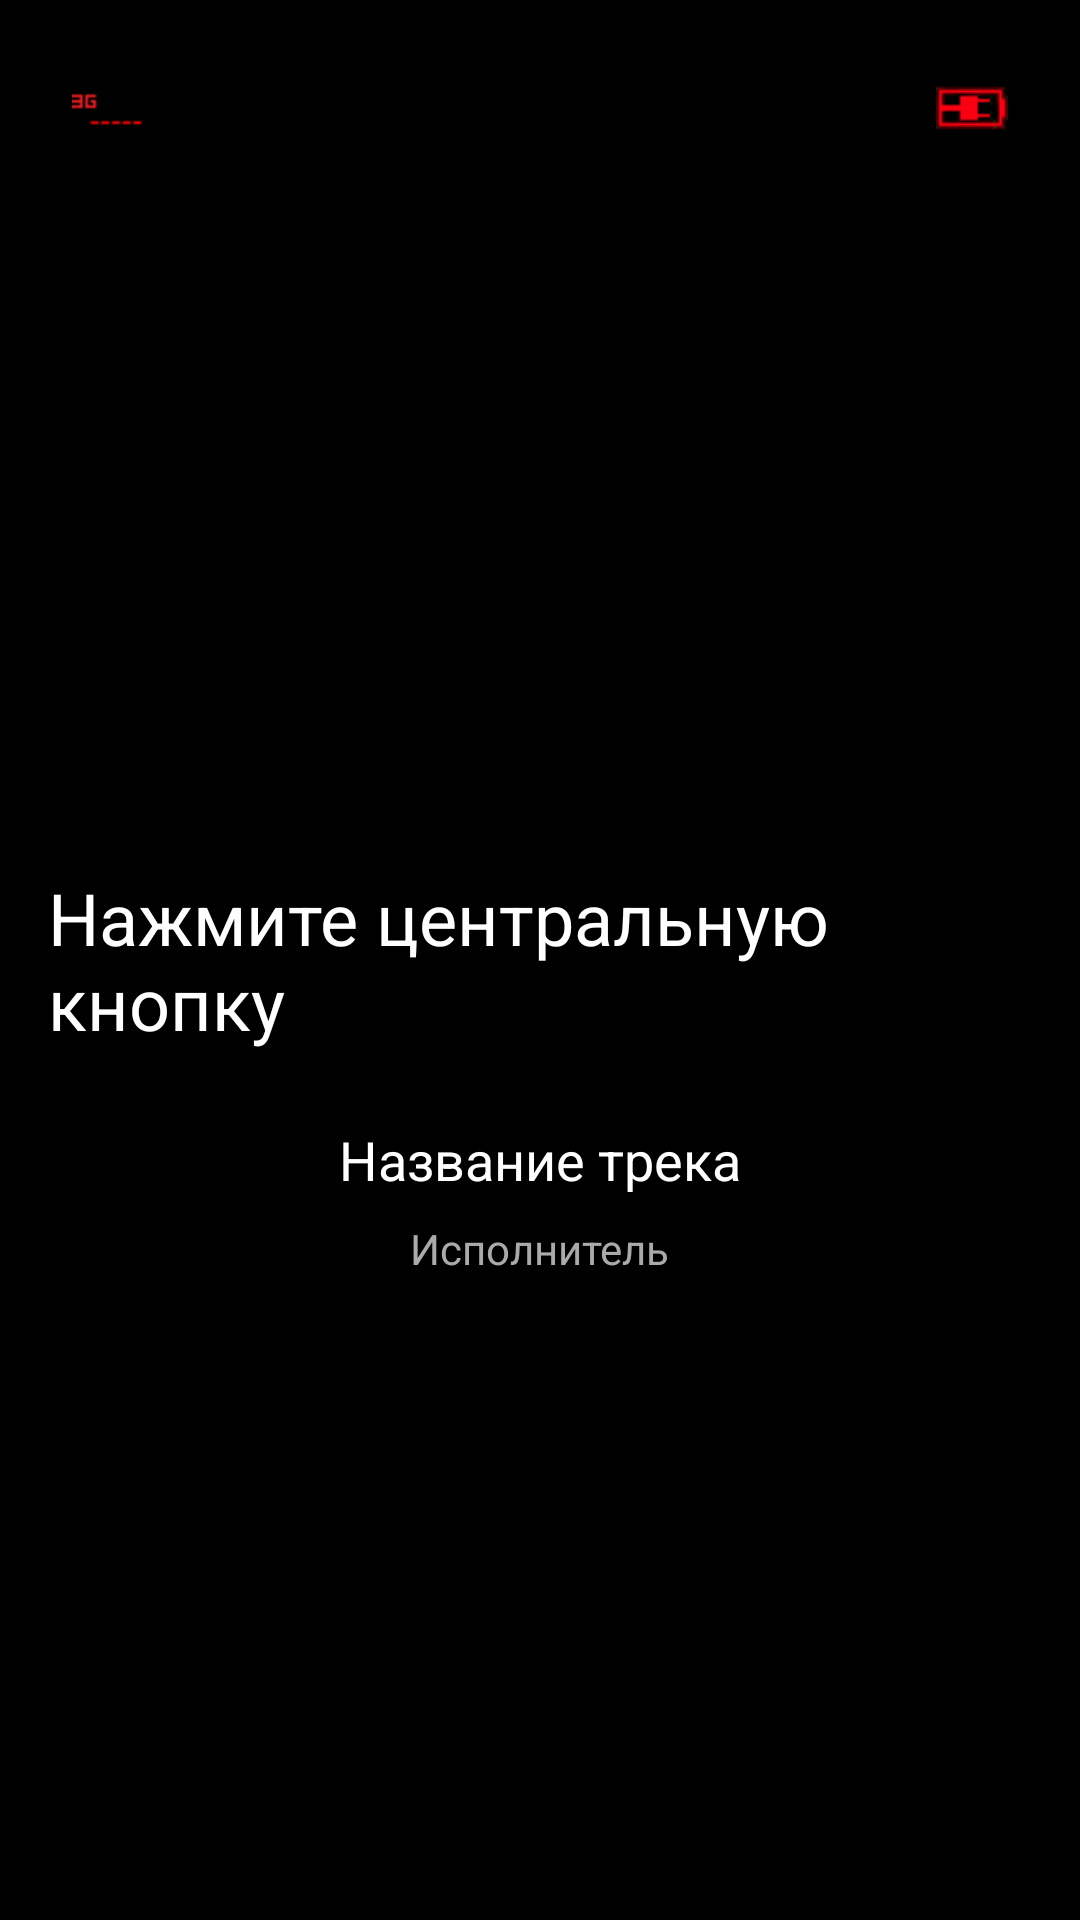

Icon bounding boxes for this 1080px×1920px phone screenshot, format detection(x1, y1, x2, y2):
Battery Icon: detection(936, 86, 1008, 130)
Network Icon: detection(72, 94, 142, 125)
